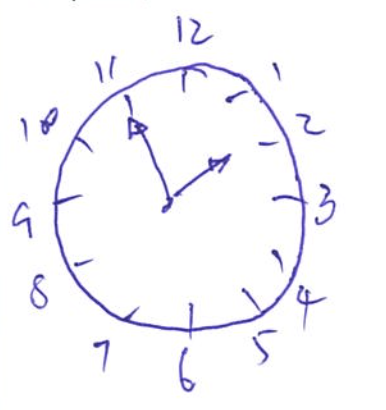1: (268, 61, 287, 84)
10: (18, 107, 60, 141)
11: (95, 55, 119, 84)
12: (169, 12, 215, 47)
2: (292, 109, 327, 138)
3: (314, 180, 337, 229)
4: (297, 283, 327, 331)
5: (250, 323, 279, 366)
6: (171, 346, 199, 393)
7: (91, 336, 112, 372)
8: (28, 269, 49, 311)
9: (11, 201, 36, 240)
contour: (51, 62, 307, 331)
hand: (125, 117, 234, 214)
top_left_arrow: (126, 114, 171, 205)
top_right_arrow: (171, 152, 233, 199)
